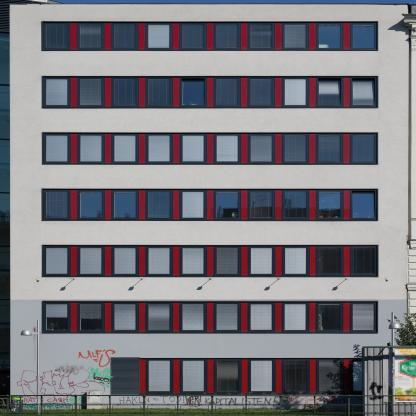Building Outline: (7, 3, 409, 409)
Dont: (0, 394, 416, 416), (361, 312, 416, 416)
Facade: (10, 4, 409, 409)
Floor: (10, 68, 409, 123), (10, 295, 409, 350), (10, 239, 409, 291), (10, 183, 409, 235), (10, 127, 409, 179)
Floor Slab: (10, 123, 409, 127), (10, 179, 409, 183), (10, 235, 409, 239), (10, 291, 409, 295), (10, 64, 409, 67), (10, 351, 409, 354)
Ground Floor: (10, 354, 409, 409)
Pillar: (70, 302, 77, 332), (343, 302, 350, 332), (309, 302, 316, 332), (275, 302, 282, 332), (344, 359, 350, 394), (70, 77, 77, 107), (343, 77, 350, 107), (309, 77, 316, 107), (275, 77, 282, 107), (139, 77, 146, 107), (70, 190, 77, 220), (343, 190, 350, 220), (309, 190, 316, 220), (275, 190, 282, 220), (139, 190, 146, 220), (70, 246, 77, 276), (343, 246, 350, 276), (309, 246, 316, 276), (275, 246, 282, 276), (139, 246, 146, 276), (139, 302, 146, 332), (140, 359, 146, 394), (174, 359, 180, 394), (208, 359, 214, 394), (242, 359, 248, 394), (276, 359, 282, 394), (310, 359, 316, 394), (70, 134, 77, 163), (343, 134, 350, 163), (309, 134, 316, 163), (275, 134, 282, 163), (139, 134, 146, 163), (275, 23, 282, 49), (104, 23, 111, 49), (70, 23, 77, 49), (309, 23, 316, 49), (343, 23, 350, 49), (241, 302, 247, 332), (207, 302, 213, 332), (173, 302, 179, 332), (105, 302, 111, 332), (241, 77, 247, 107), (207, 77, 213, 107), (173, 77, 179, 107), (105, 77, 111, 107), (241, 190, 247, 220), (207, 190, 213, 220), (173, 190, 179, 220), (105, 190, 111, 220), (241, 246, 247, 276), (207, 246, 213, 276), (173, 246, 179, 276), (105, 246, 111, 276), (241, 134, 247, 163), (207, 134, 213, 163), (173, 134, 179, 163), (105, 134, 111, 163), (241, 23, 247, 49), (207, 23, 213, 49), (173, 23, 179, 49), (139, 23, 145, 49)
Top Floor: (10, 4, 409, 64)
Window: (217, 361, 238, 392), (251, 361, 272, 392), (285, 361, 306, 392), (319, 361, 340, 392), (353, 79, 376, 106), (318, 79, 341, 106), (353, 135, 376, 162), (318, 135, 341, 162), (353, 191, 376, 218), (318, 191, 341, 218), (353, 248, 376, 275), (318, 248, 341, 275), (353, 304, 376, 331), (318, 304, 341, 331), (353, 361, 373, 392), (149, 361, 169, 392), (183, 361, 203, 392), (182, 135, 204, 162), (182, 191, 204, 218), (182, 79, 204, 105), (182, 248, 204, 274), (182, 304, 204, 330), (46, 135, 67, 162), (114, 135, 135, 162), (217, 135, 238, 162), (251, 135, 272, 162), (285, 135, 306, 162), (46, 191, 67, 218), (114, 191, 135, 218), (217, 191, 238, 218), (251, 191, 272, 218), (285, 191, 306, 218), (46, 247, 67, 274), (46, 304, 67, 330), (114, 304, 135, 330), (46, 79, 67, 105), (114, 79, 135, 105), (217, 79, 238, 105), (251, 79, 272, 105), (285, 79, 306, 105), (114, 248, 135, 274), (217, 248, 238, 274), (251, 248, 272, 274), (285, 248, 306, 274), (217, 304, 238, 330), (251, 304, 272, 330), (285, 304, 306, 330), (81, 135, 101, 162), (149, 135, 169, 162), (81, 191, 101, 218), (149, 191, 169, 218), (81, 304, 101, 330), (81, 79, 101, 105), (149, 79, 169, 105), (81, 248, 101, 274), (149, 248, 169, 274), (149, 304, 169, 330), (353, 24, 374, 48), (319, 24, 340, 48), (80, 24, 101, 48), (46, 24, 67, 48), (114, 24, 135, 48), (149, 24, 169, 48), (217, 24, 237, 48), (183, 24, 203, 48), (285, 24, 305, 48), (251, 24, 271, 48)
